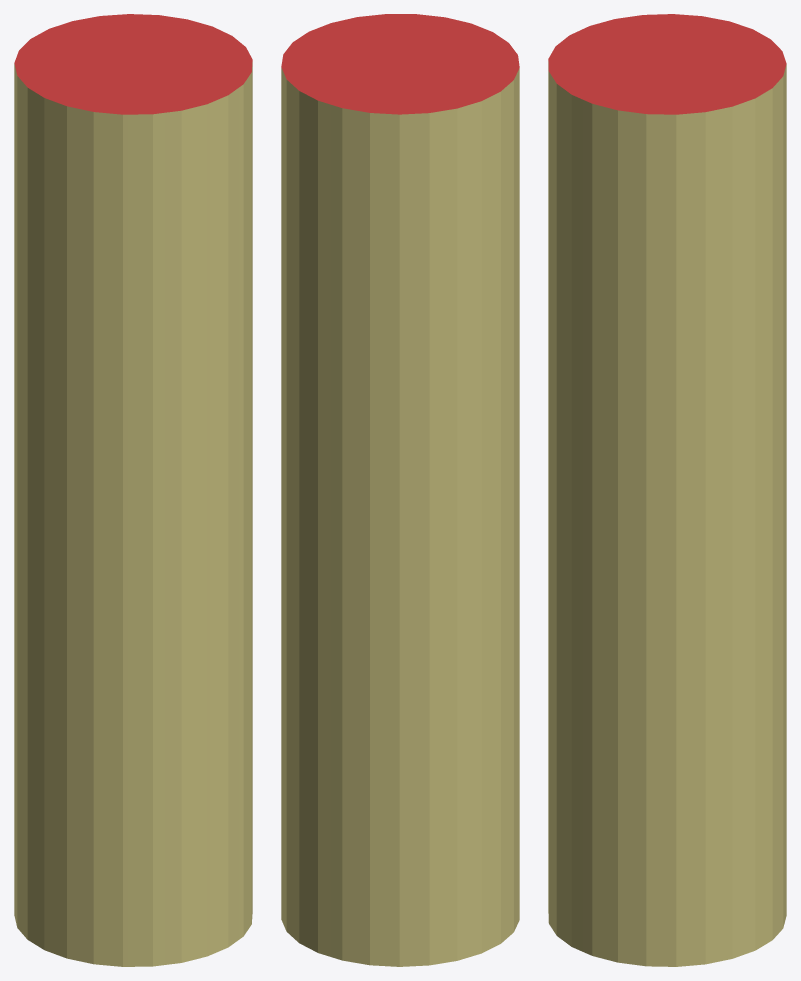
3 renders of one model, left to right at view 1: azimuth 30°, elevation 25°; view 2: azimuth 150°, elevation 25°; view 3: azimuth 270°, elevation 25°, orthographic.
Bounding box in the file's own units: 3.22 × 3.21 × 12.68.
